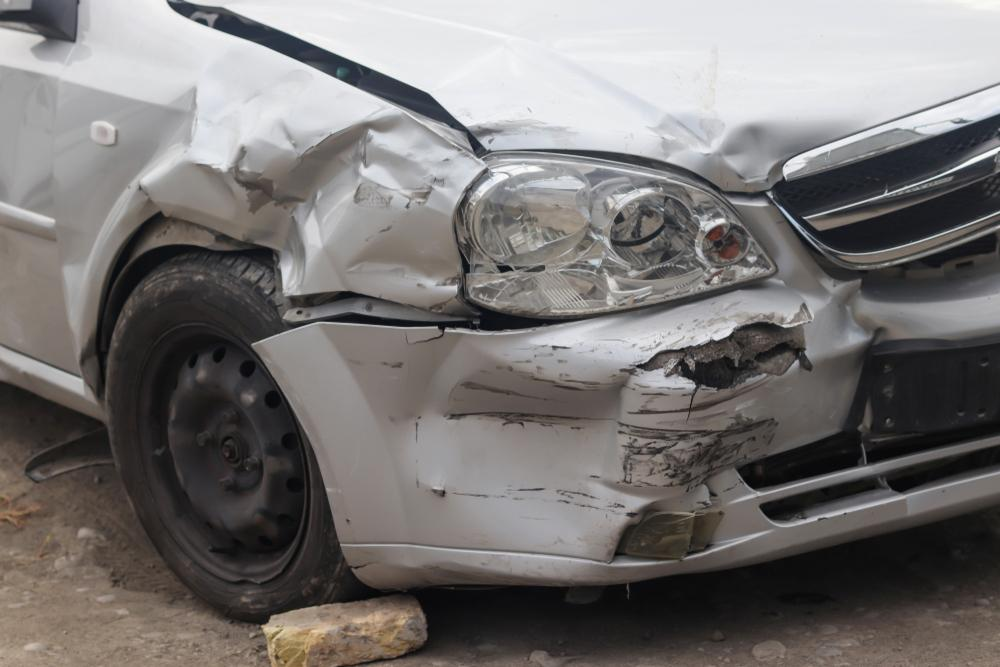crack: (629, 320, 808, 425), (403, 328, 447, 345)
dent: (58, 51, 489, 354), (371, 336, 624, 536), (473, 109, 854, 181), (818, 283, 911, 353)
lamp broken: (460, 152, 777, 318)
scratch: (611, 367, 791, 496)
